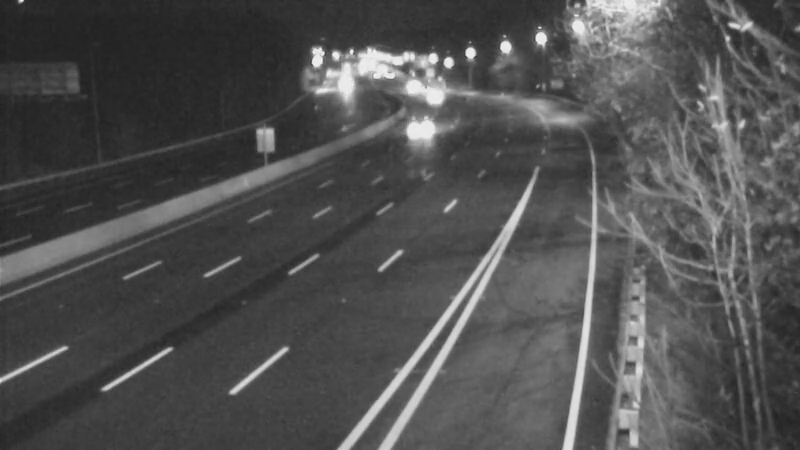vehicle: (383, 57, 433, 107), (411, 75, 461, 125), (396, 100, 446, 150)
